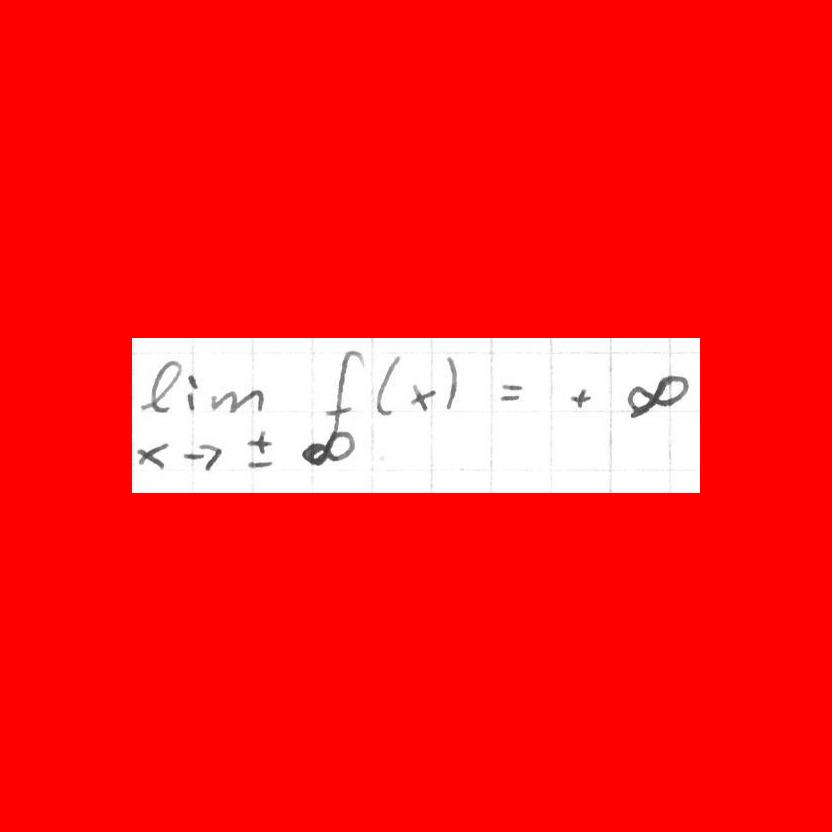Char: (322, 356, 366, 433), (627, 377, 686, 416), (145, 356, 181, 415), (300, 428, 356, 465), (374, 352, 401, 418), (213, 384, 261, 419), (181, 440, 223, 471), (243, 432, 274, 469), (135, 440, 169, 471), (442, 354, 460, 410), (408, 381, 436, 413), (567, 384, 593, 411), (496, 380, 524, 404), (186, 373, 200, 410)
